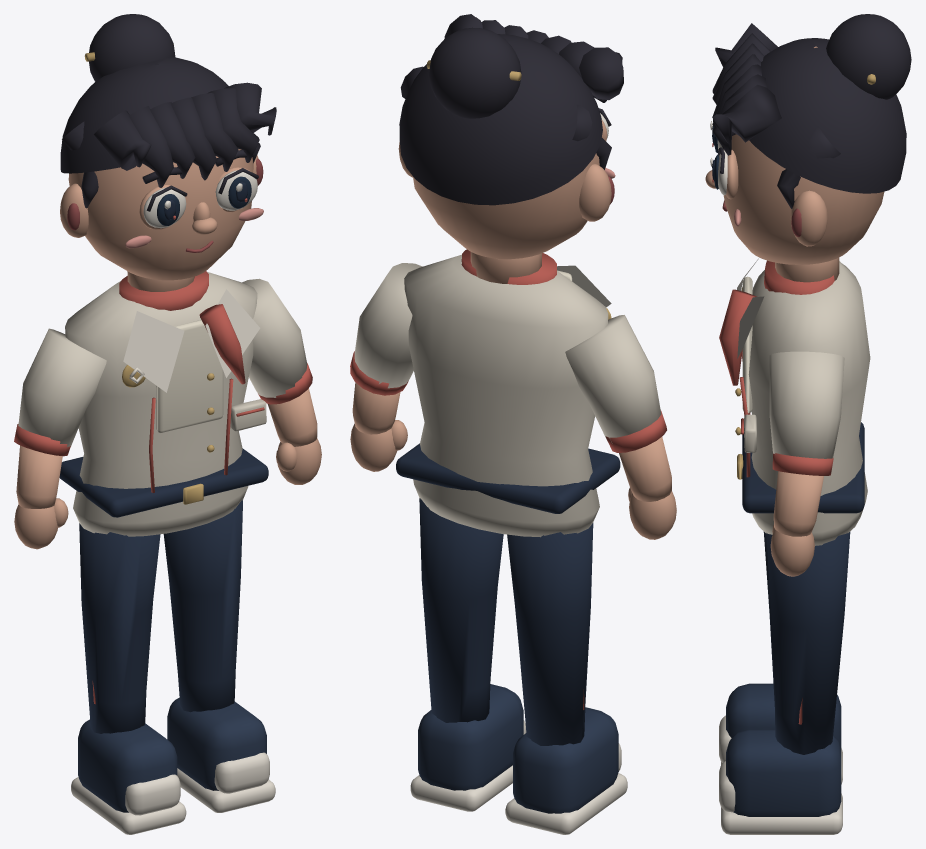
Rendered from trainer_challenge.glb.
3 views of the same model, side by side, from view 1: azimuth 30°, elevation 25°; view 2: azimuth 150°, elevation 25°; view 3: azimuth 270°, elevation 25° (orthographic). The views are drawn at different scales.
Parts seen in each view (by area): view 1: figure.008; view 2: figure.008; view 3: figure.008.
Part boxes in pixels (x1=…): figure.008: x1=14, y1=14, x2=321, y2=834; figure.008: x1=350, y1=14, x2=676, y2=834; figure.008: x1=705, y1=14, x2=911, y2=834.
Bounding box in the file's own units: 1.05 × 2.5 × 0.5979.
